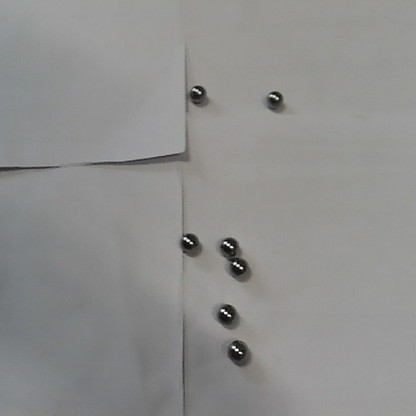ironball: (226, 340, 246, 362), (218, 237, 237, 257), (179, 231, 197, 252), (188, 85, 205, 103), (265, 90, 283, 107), (217, 305, 234, 321), (229, 258, 245, 273)
